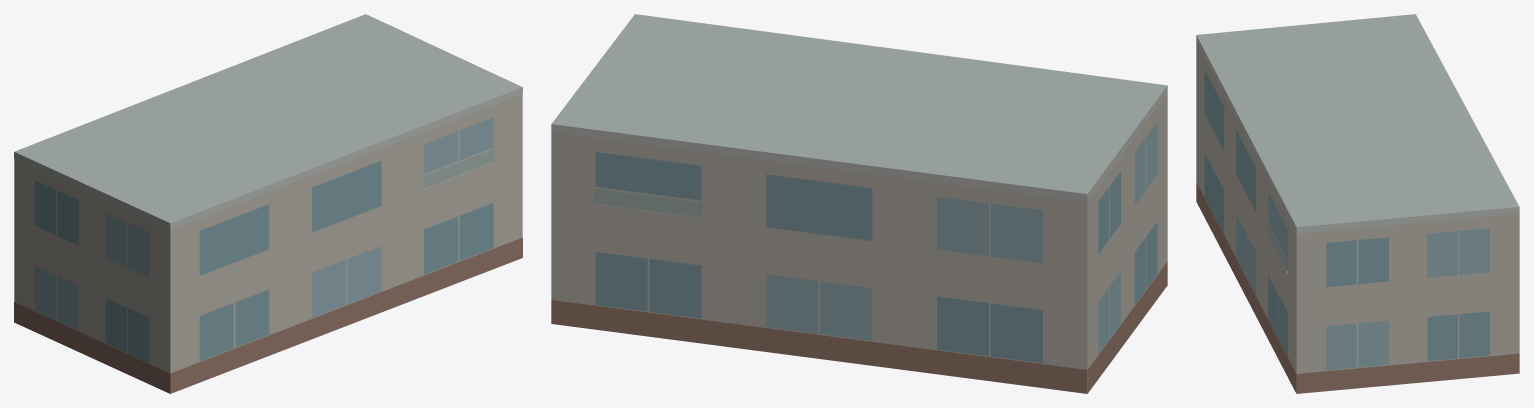
File: survey-upis-32709149.glb
3 views of the same model, side by side, from view 1: azimuth 30°, elevation 25°; view 2: azimuth 150°, elevation 25°; view 3: azimuth 270°, elevation 25° (orthographic). The views are drawn at different scales.
Visible parts, largest first — view 1: survey-upis-32709149.tmp; view 2: survey-upis-32709149.tmp; view 3: survey-upis-32709149.tmp.
Part boxes in pixels (x1,y1,x2,y2): survey-upis-32709149.tmp: (14,14,522,393); survey-upis-32709149.tmp: (551,14,1167,393); survey-upis-32709149.tmp: (1196,14,1519,393).
Size of the model in its own units: 16.76 by 6.1 by 10.74.
